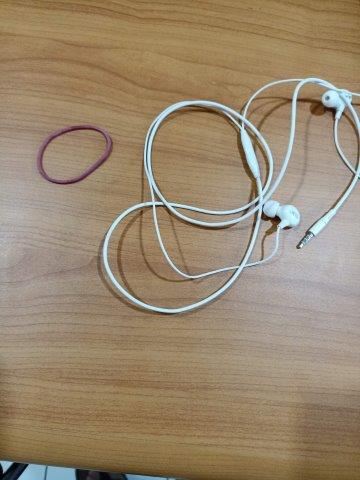karet: (37, 125, 112, 184)
